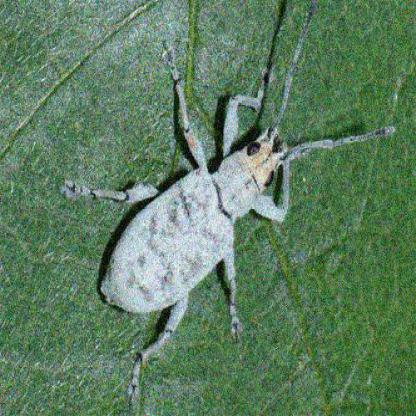ash weevil: (63, 52, 293, 400)
